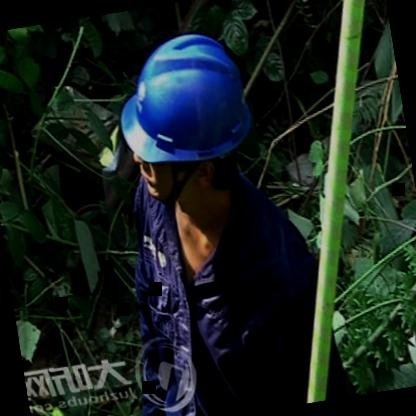helmet: (102, 6, 274, 237)
